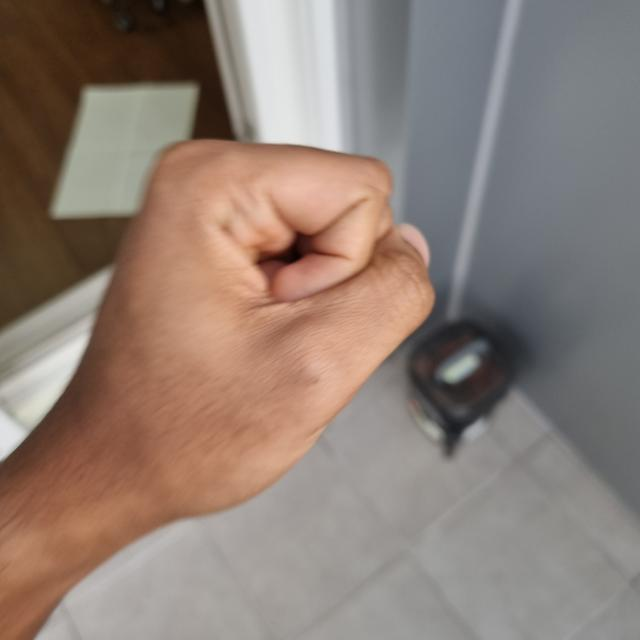Rock: (65, 139, 433, 517)
